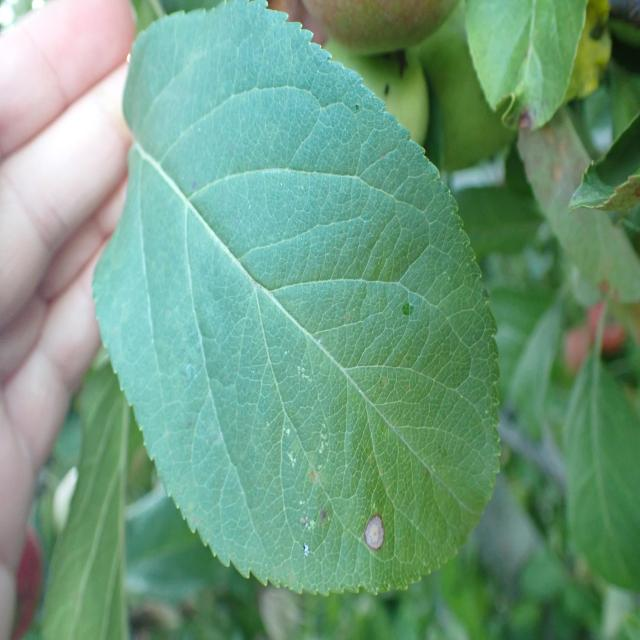frog-eye-leaf-spot: (91, 1, 501, 599)
